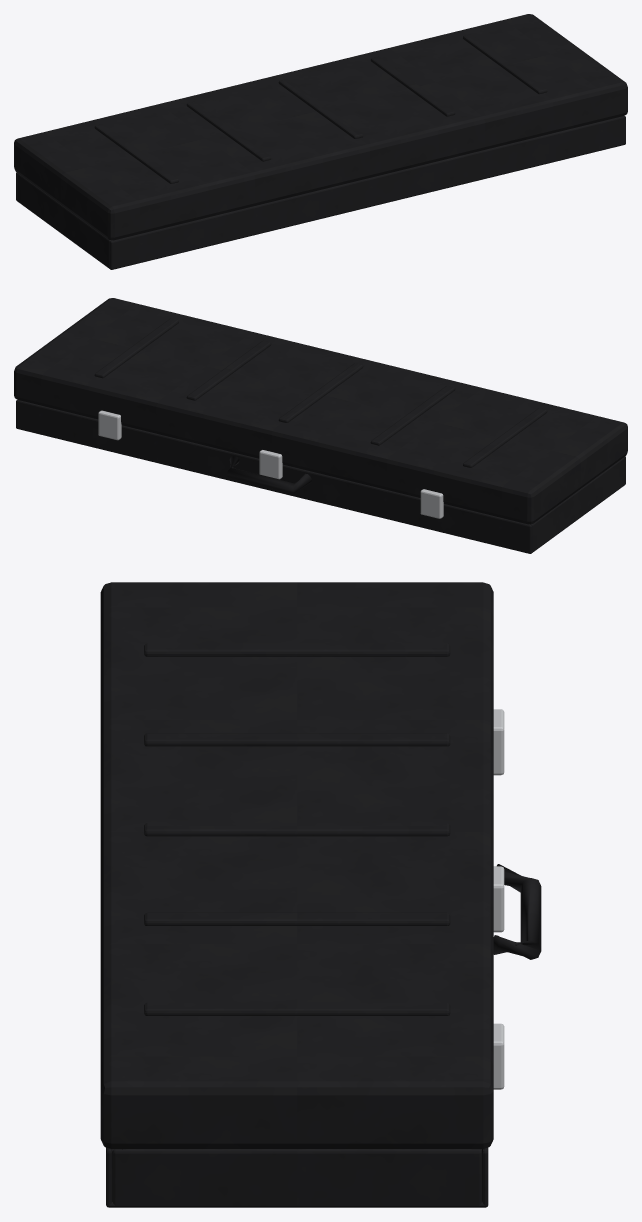
File: lootbox_riflecase.glb
3 renders of one model, top to bottom at view 1: azimuth 30°, elevation 25°; view 2: azimuth 150°, elevation 25°; view 3: azimuth 270°, elevation 25°, orthographic. The views are drawn at different scales.
Visible parts, largest first — view 1: lid, rc_back, rc_left, rib3, rib4, rib1, rib2, rib0, rc_floor; view 2: lid, rc_front, rc_left, handle, rc_floor, rib3, rib4, rib1, rib2, rib0, latch0, latch2 (+1 smaller); view 3: lid, rc_right, rib1, rib0, rib4, rib2, rib3, handle, rc_floor.
Part boxes in pixels (left/top/right/bottom): lid: left=14, top=14, right=627, bottom=240; rc_back: left=110, top=116, right=625, bottom=269; rc_left: left=17, top=173, right=111, bottom=267; rib3: left=370, top=56, right=455, bottom=116; rib4: left=463, top=34, right=547, bottom=94; rib1: left=186, top=101, right=271, bottom=161; rib2: left=278, top=79, right=363, bottom=138; rib0: left=94, top=124, right=178, bottom=183; rc_floor: left=16, top=144, right=621, bottom=269; lid: left=14, top=298, right=627, bottom=524; rc_front: left=16, top=400, right=531, bottom=552; rc_left: left=530, top=457, right=624, bottom=551; handle: left=226, top=456, right=311, bottom=493; rc_floor: left=16, top=427, right=625, bottom=553; rib3: left=186, top=340, right=271, bottom=400; rib4: left=94, top=318, right=178, bottom=378; rib1: left=370, top=385, right=455, bottom=445; rib2: left=278, top=363, right=363, bottom=422; rib0: left=463, top=408, right=547, bottom=467; latch0: left=420, top=489, right=443, bottom=518; latch2: left=98, top=410, right=121, bottom=440; lid: left=100, top=582, right=493, bottom=1148; rc_right: left=112, top=1149, right=481, bottom=1206; rib1: left=144, top=733, right=450, bottom=746; rib0: left=144, top=643, right=450, bottom=656; rib4: left=144, top=1002, right=450, bottom=1015; rib2: left=144, top=823, right=450, bottom=836; rib3: left=144, top=912, right=450, bottom=925; handle: left=493, top=864, right=541, bottom=959; rc_floor: left=106, top=1149, right=488, bottom=1207.
Size of the model in its own units: 1.13 by 0.136 by 0.4148.
Materials: 3 (2 with a texture image).
